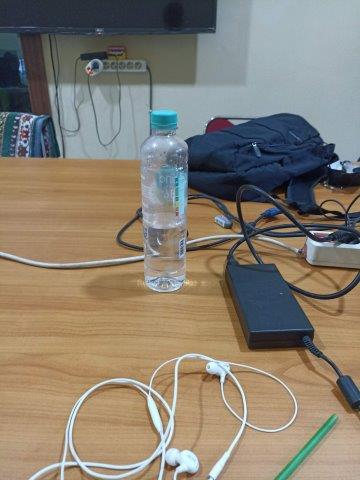botolplastik: (140, 109, 188, 293)
